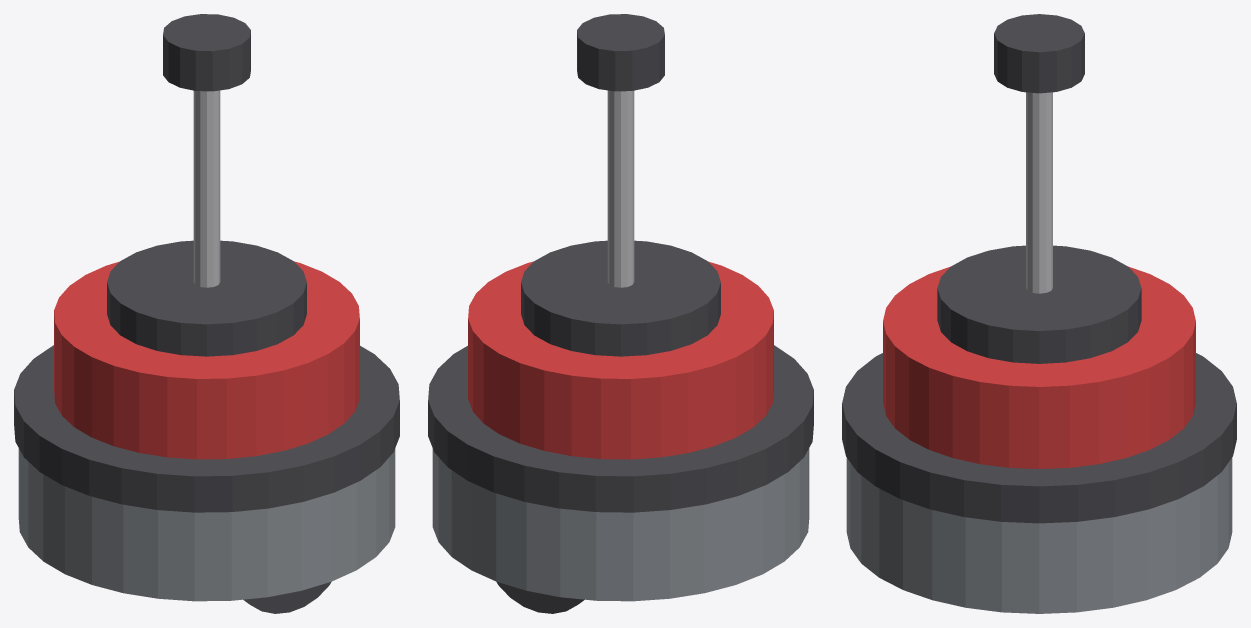
Rendered from foot-bot.glb.
The picture shows the model from 3 angles, left to right: view 1: azimuth 30°, elevation 25°; view 2: azimuth 150°, elevation 25°; view 3: azimuth 270°, elevation 25°; orthographic projection. The views are drawn at different scales.
Parts seen in each view (by area): view 1: part_4, part_2, part_3, part_5, part_7, part_6, part_0; view 2: part_4, part_2, part_3, part_5, part_7, part_6, part_1; view 3: part_4, part_2, part_3, part_5, part_7, part_6.
Part boxes in pixels (x1,y1,x2,y2): part_4: [54, 261, 359, 459]; part_2: [18, 448, 395, 601]; part_3: [14, 345, 399, 512]; part_5: [107, 240, 306, 356]; part_7: [163, 14, 250, 91]; part_6: [193, 90, 220, 287]; part_0: [243, 581, 331, 613]; part_4: [468, 261, 773, 459]; part_2: [432, 448, 809, 601]; part_3: [428, 345, 813, 512]; part_5: [521, 240, 720, 356]; part_7: [577, 14, 664, 91]; part_6: [607, 90, 634, 287]; part_1: [496, 581, 584, 613]; part_4: [883, 266, 1195, 468]; part_2: [846, 458, 1232, 613]; part_3: [842, 353, 1236, 523]; part_5: [937, 245, 1141, 363]; part_7: [994, 14, 1084, 93]; part_6: [1026, 92, 1052, 293].
Size of the model in its own units: 0.1741 by 0.258 by 0.1741.
